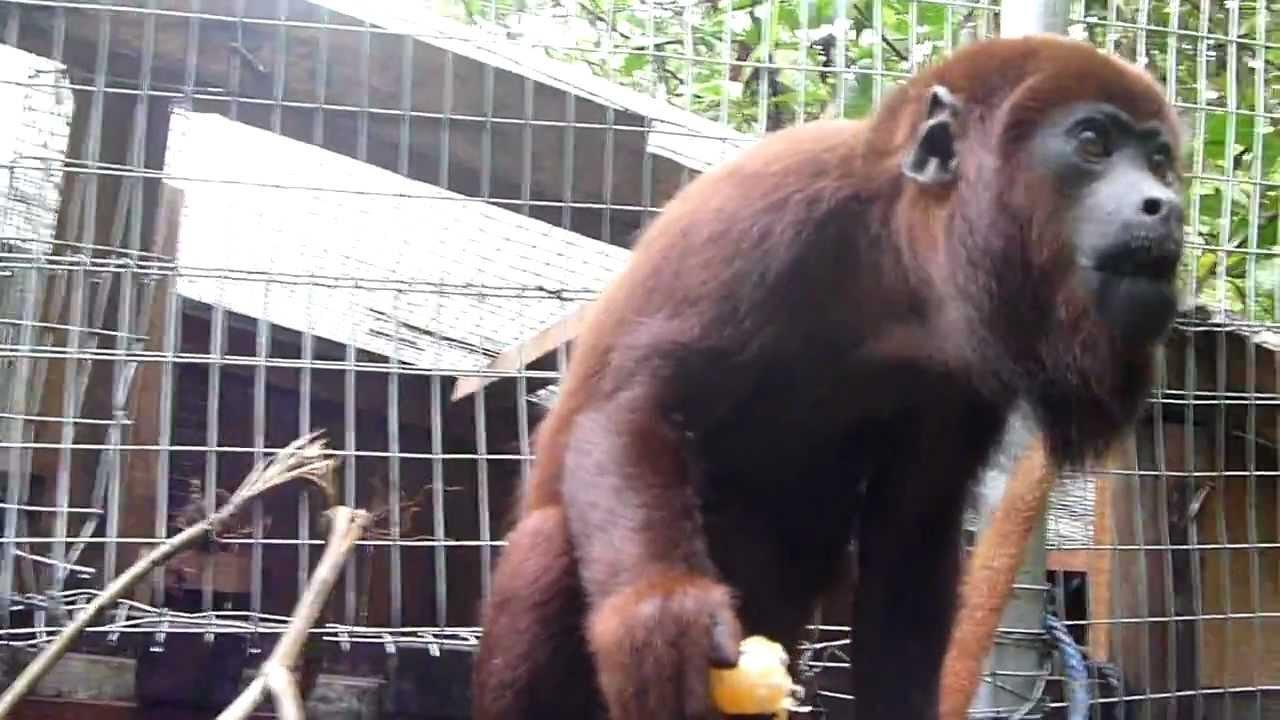monkey: (621, 33, 1192, 720)
